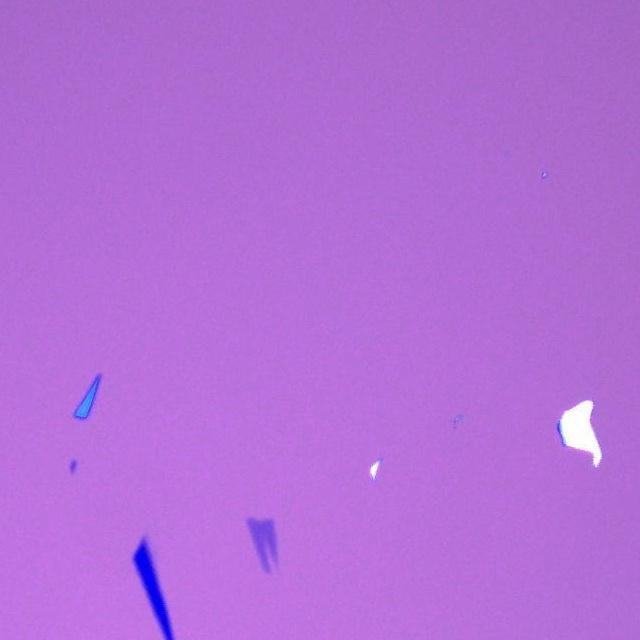monolayer-eWW4: (246, 516, 278, 575)
